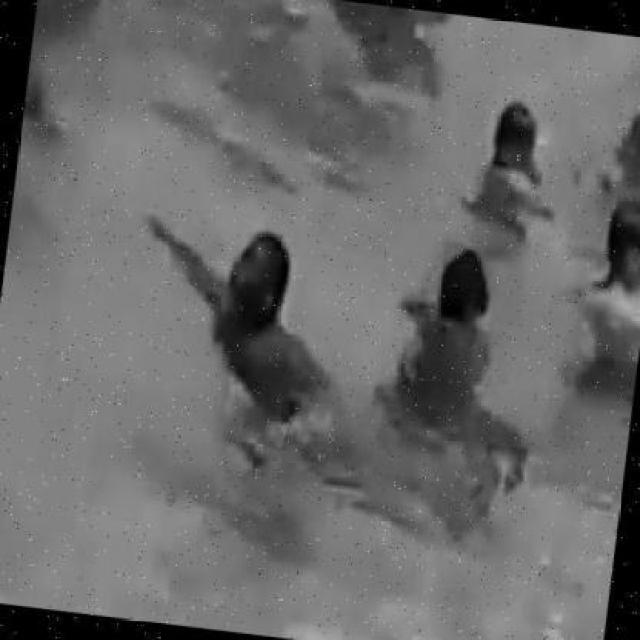drowning: (225, 224, 332, 445), (386, 252, 499, 426), (477, 108, 548, 226), (595, 204, 640, 373)
